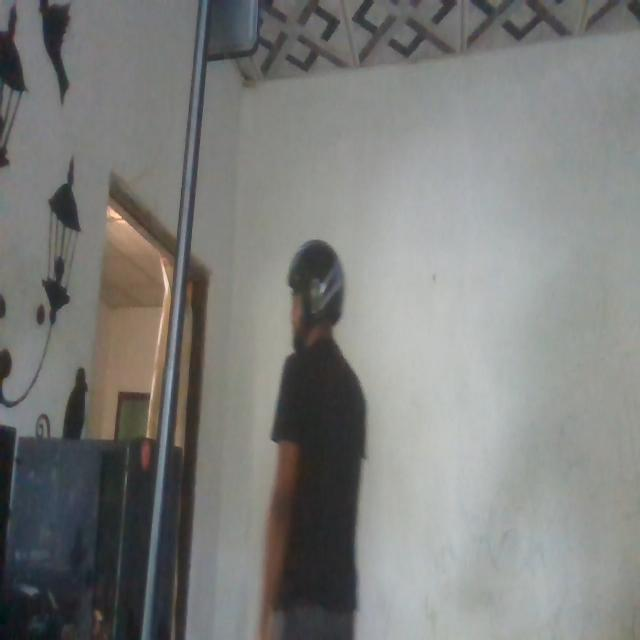Helmet_Wearer: (286, 235, 352, 369)
Person: (264, 237, 370, 640)
